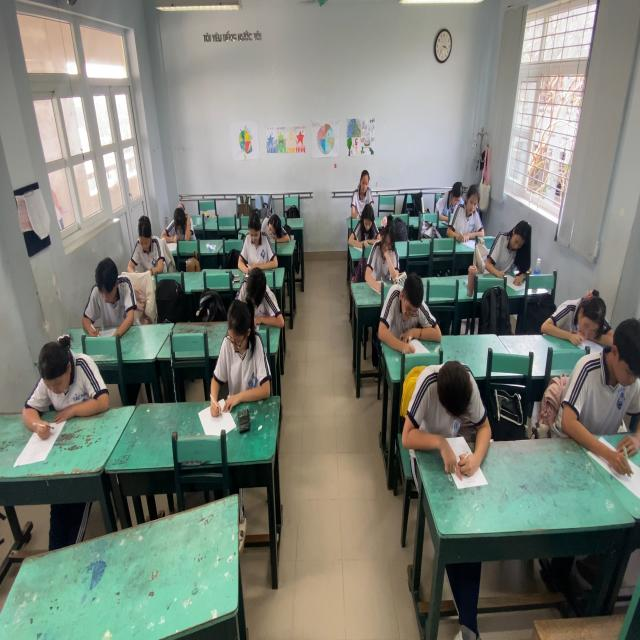not_cheating: (566, 305, 640, 477), (35, 332, 109, 434), (415, 357, 479, 472), (222, 295, 268, 408), (378, 260, 430, 348), (549, 276, 610, 344), (482, 204, 530, 286), (87, 254, 134, 335), (365, 208, 404, 284), (235, 260, 277, 326), (127, 208, 167, 276), (235, 210, 278, 270), (453, 182, 488, 244), (249, 201, 291, 250), (163, 188, 194, 247), (351, 197, 382, 248), (435, 173, 462, 221), (348, 163, 375, 208)
